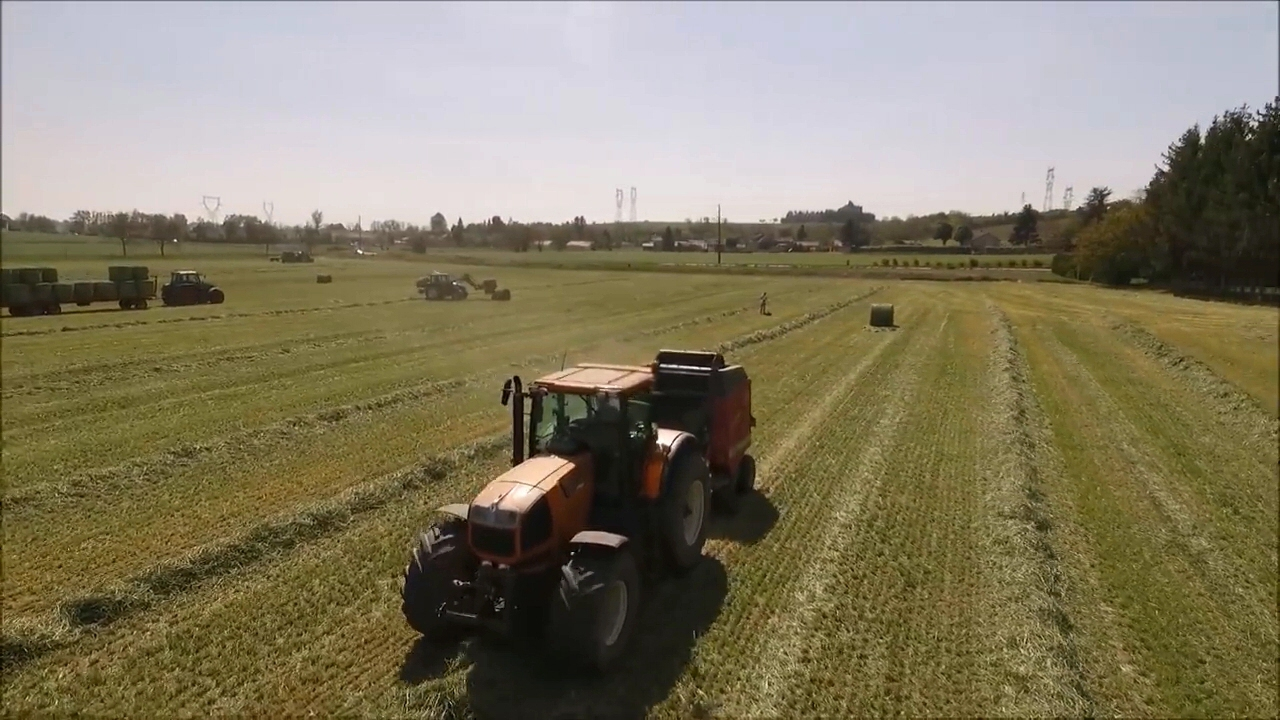insan: (759, 291, 771, 314)
traktor: (396, 359, 715, 660)
